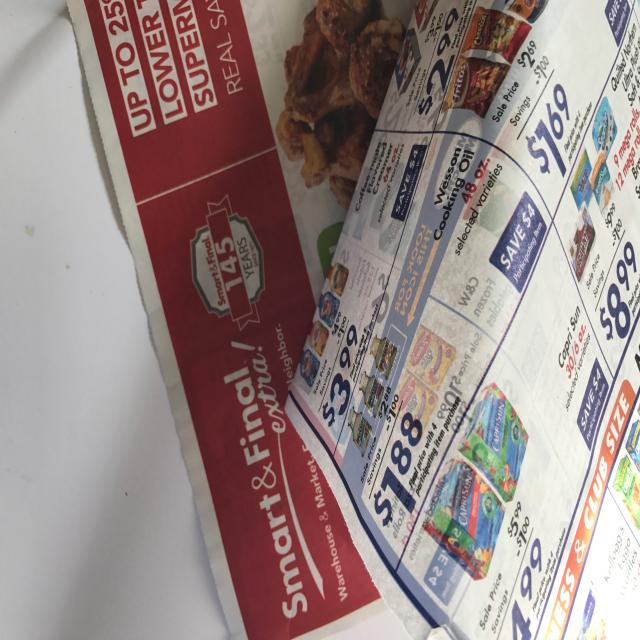paper: (67, 1, 640, 639)
